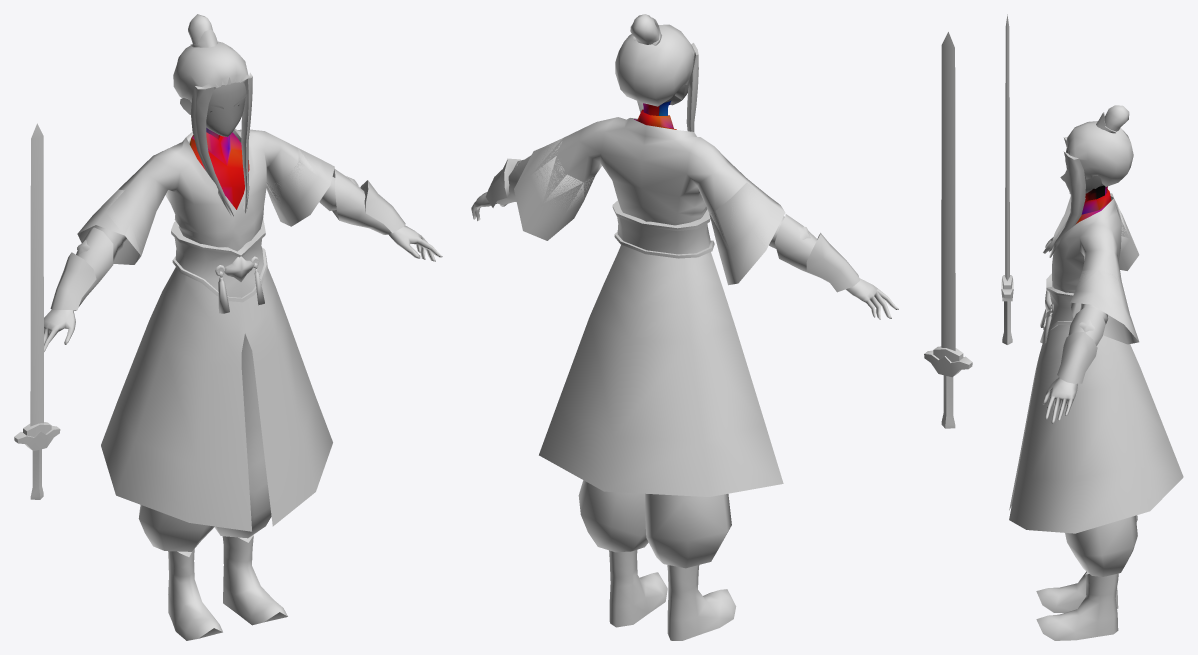
The model's file is m_014_sword_soldier_2_view.fbx.
3 renders of one model, left to right at view 1: azimuth 30°, elevation 25°; view 2: azimuth 150°, elevation 25°; view 3: azimuth 270°, elevation 25°, orthographic. The views are drawn at different scales.
Parts seen in each view (by area): view 1: m_014_sword_soldier_2; view 2: m_014_sword_soldier_2; view 3: m_014_sword_soldier_2.
Part boxes in pixels (x1,y1,x2,y2): m_014_sword_soldier_2: (14,14,442,640); m_014_sword_soldier_2: (471,14,972,640); m_014_sword_soldier_2: (1001,14,1183,640).
Size of the model in its own units: 183 by 229 by 73.55.
